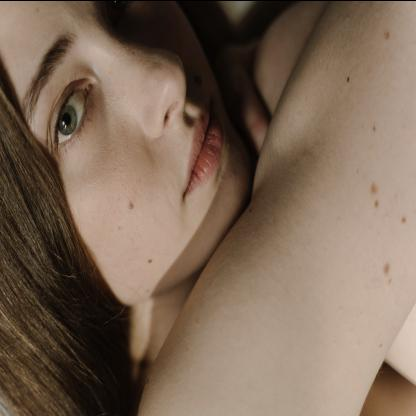Eye: (46, 83, 92, 155)
Mouth: (179, 91, 224, 199)
Nose: (102, 36, 188, 134)
